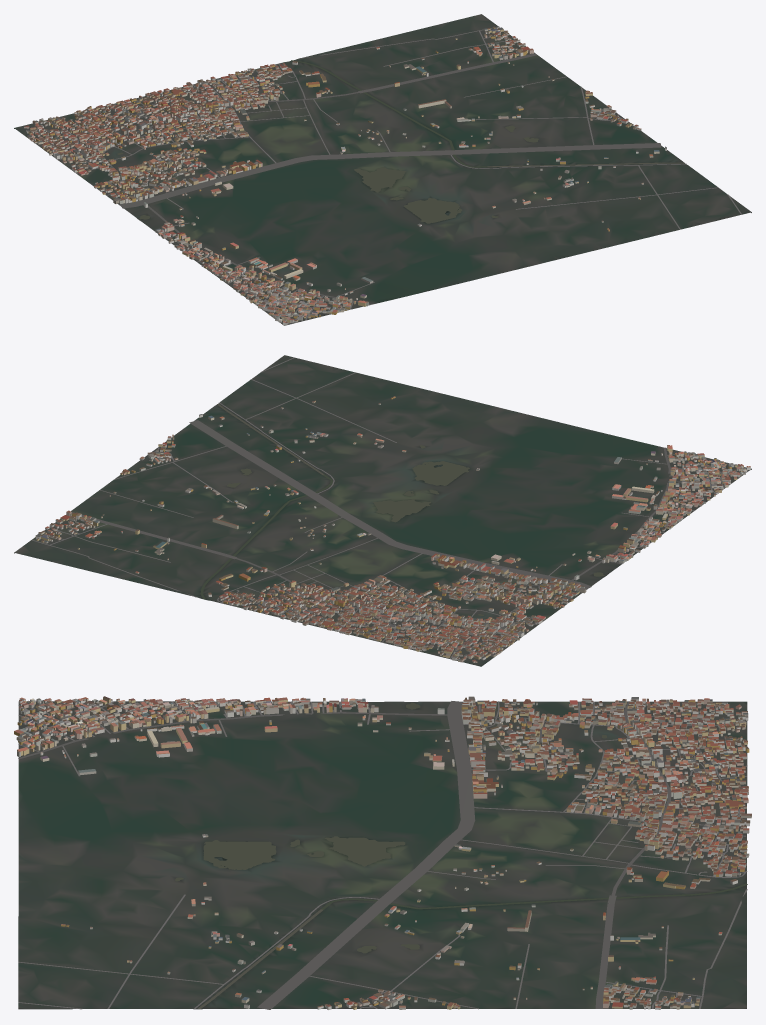
The picture shows the model from 3 angles, top to bottom: view 1: azimuth 30°, elevation 25°; view 2: azimuth 150°, elevation 25°; view 3: azimuth 270°, elevation 25°; orthographic projection. The views are drawn at different scales.
Parts seen in each view (by area): view 1: ground, buildings, roads, water; view 2: ground, buildings, roads, water; view 3: ground, buildings, roads, water.
Part boxes in pixels (x1=…): ground: x1=14, y1=14, x2=751, y2=325; buildings: x1=24, y1=26, x2=666, y2=325; roads: x1=57, y1=27, x2=741, y2=324; water: x1=117, y1=60, x2=684, y2=223; ground: x1=14, y1=355, x2=751, y2=666; buildings: x1=35, y1=396, x2=750, y2=662; roads: x1=31, y1=357, x2=747, y2=659; water: x1=200, y1=403, x2=604, y2=615; ground: x1=18, y1=701, x2=747, y2=1009; buildings: x1=14, y1=696, x2=751, y2=1009; roads: x1=18, y1=701, x2=747, y2=1009; water: x1=175, y1=702, x2=747, y2=1009.
Size of the model in its own units: 1413 by 19.19 by 1420.
